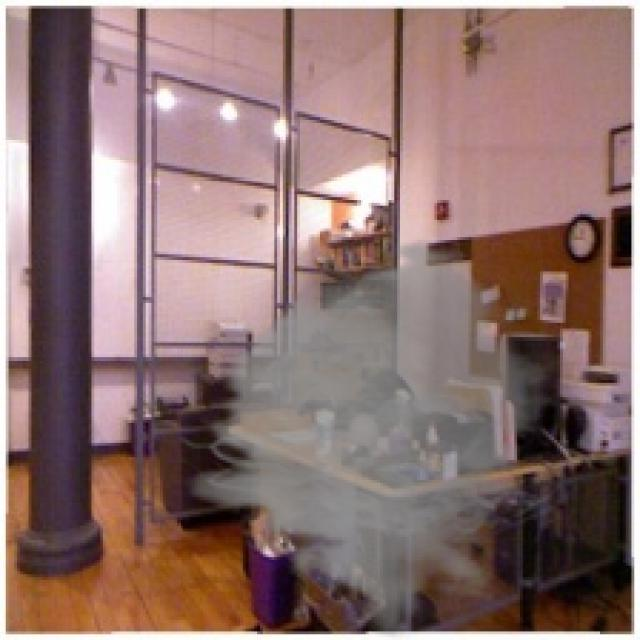smoke: (172, 237, 588, 637)
